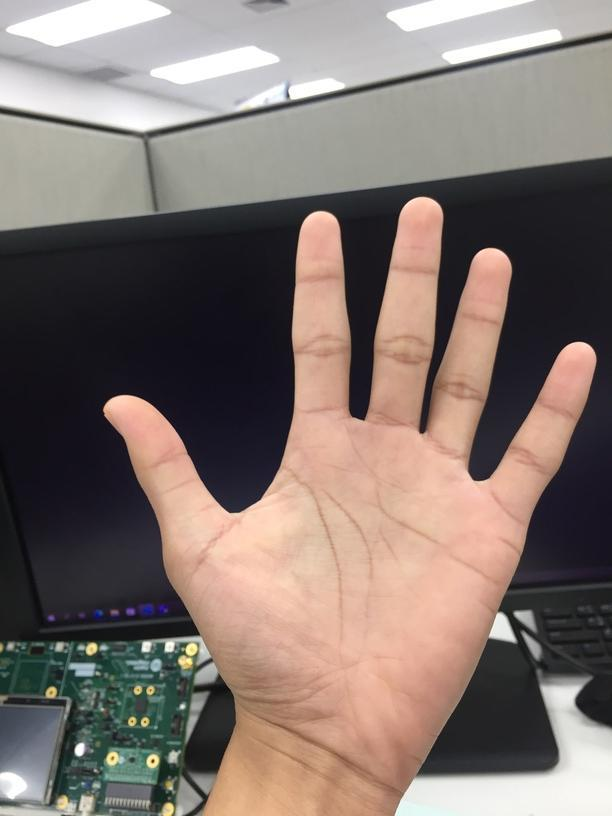hand: (100, 195, 594, 786)
